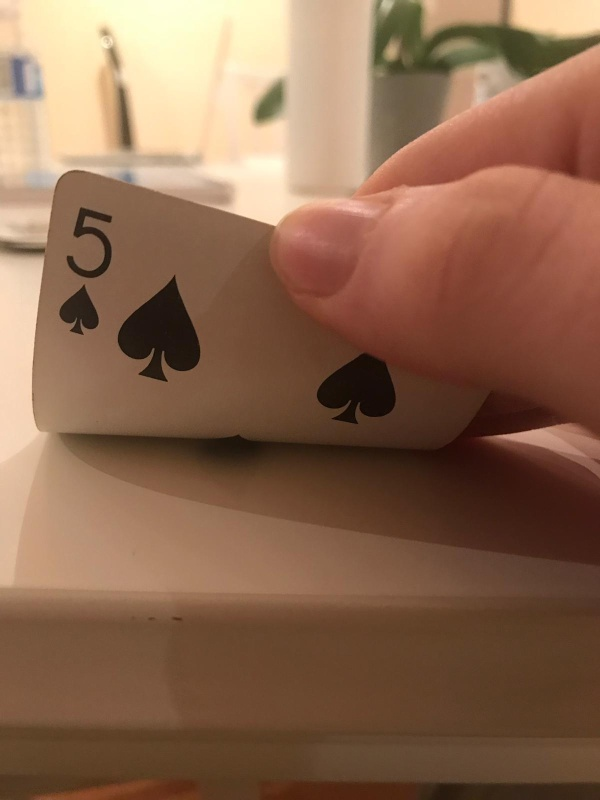S5: (53, 199, 115, 344)
